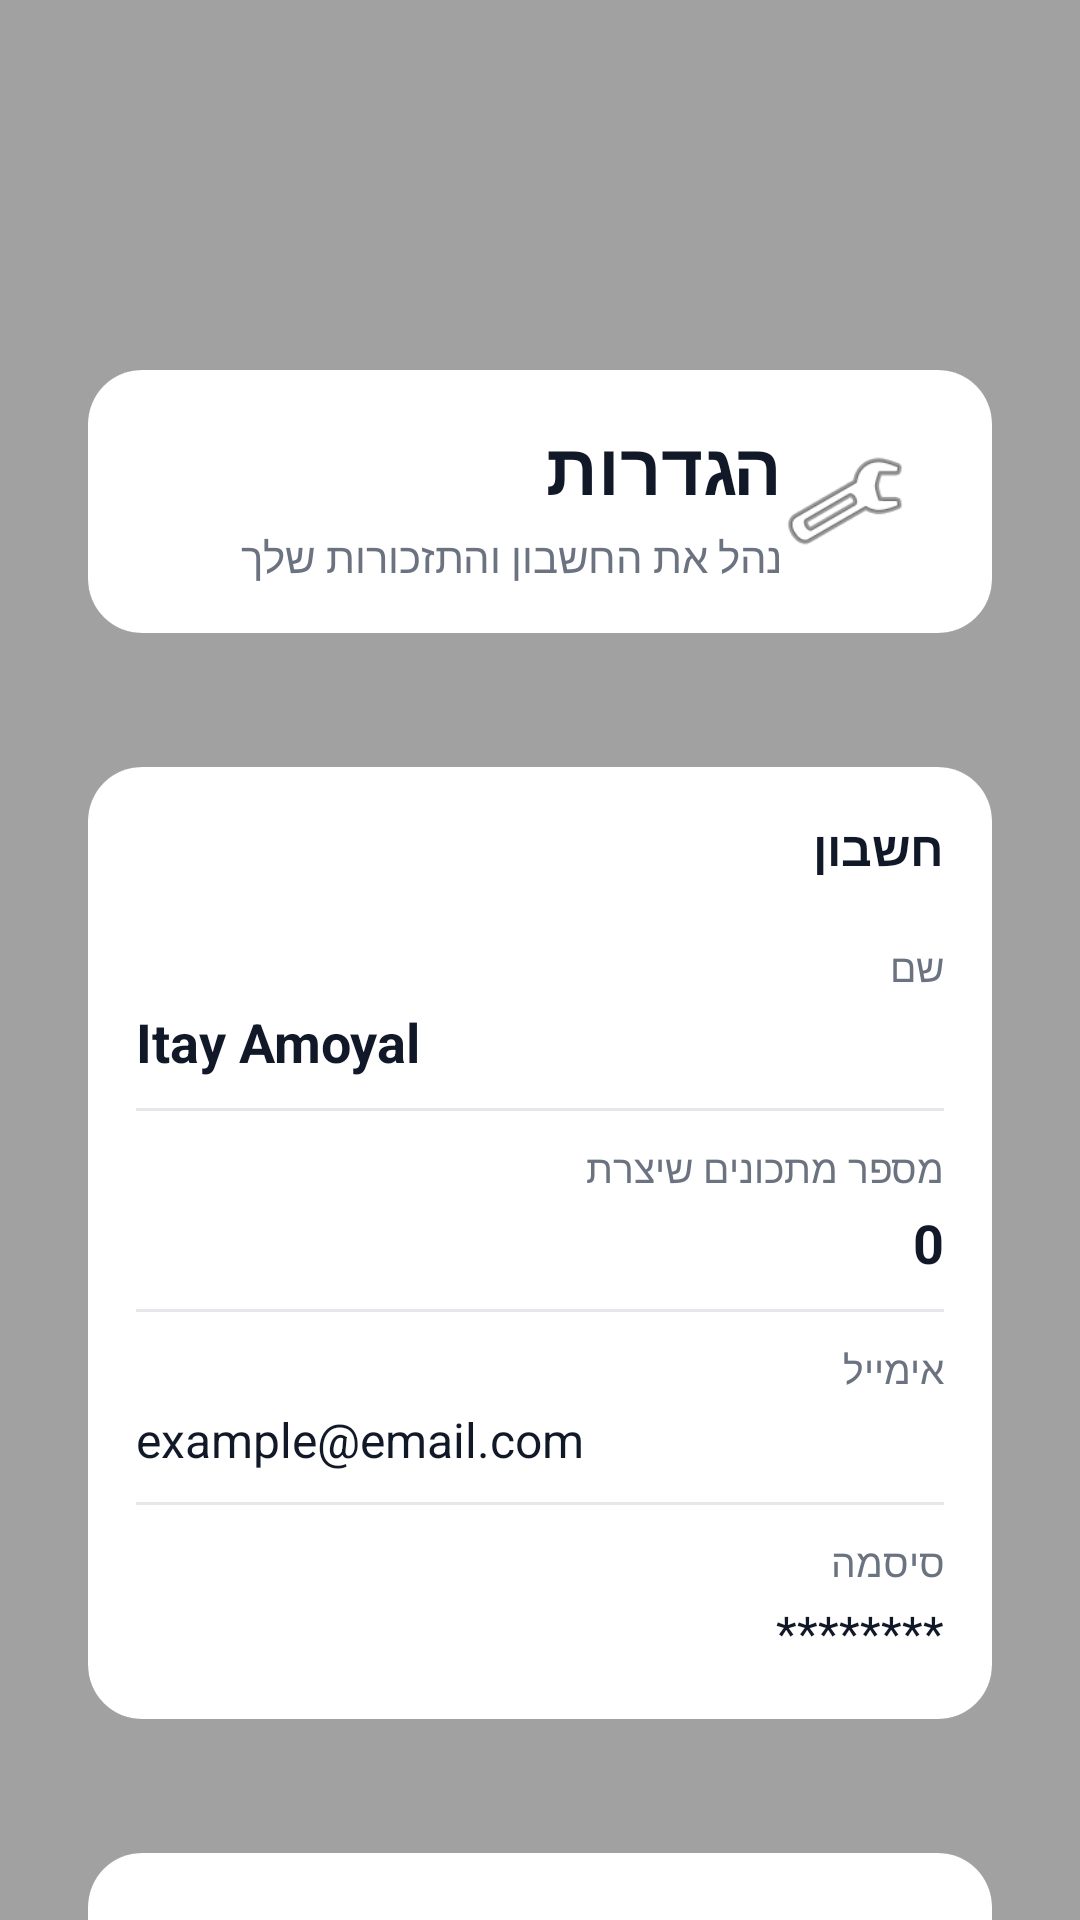

Locate icon controls on the screen. Image size 1080 x 1920, boxes as (x1, y1, x2, y2).
settings: (788, 458, 902, 544)
